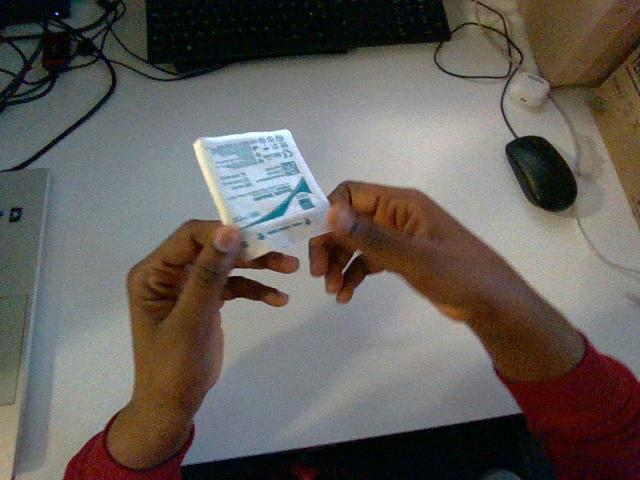gauze: (194, 130, 328, 259)
